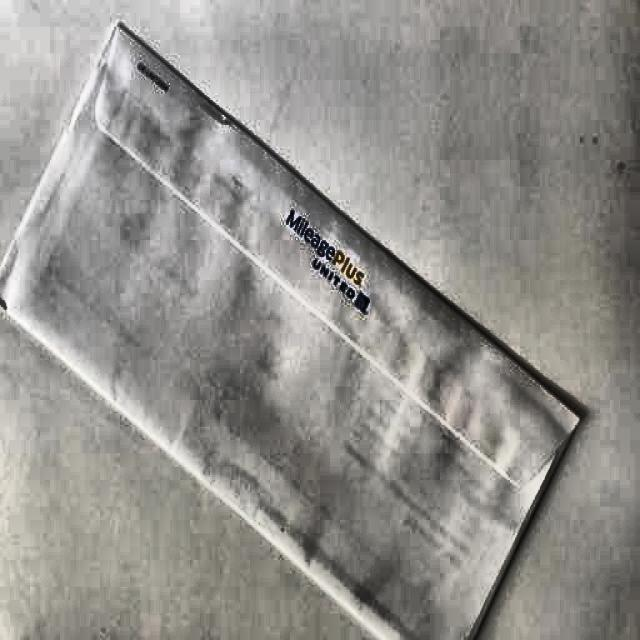paper: (6, 24, 585, 636)
